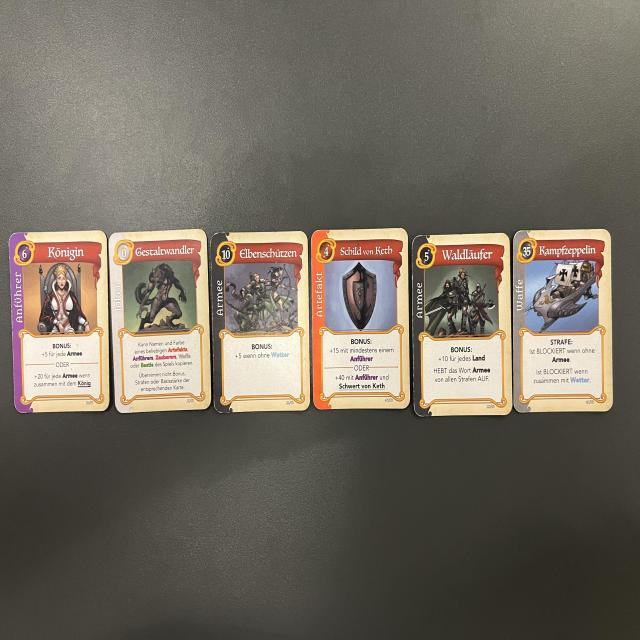Elven Archers: (210, 231, 309, 422)
Queen: (5, 230, 109, 416)
Rangers: (412, 233, 512, 419)
Shapeshifter: (108, 226, 213, 417)
Shield Of Keth: (310, 225, 411, 412)
War Dirigable: (511, 227, 617, 417)
